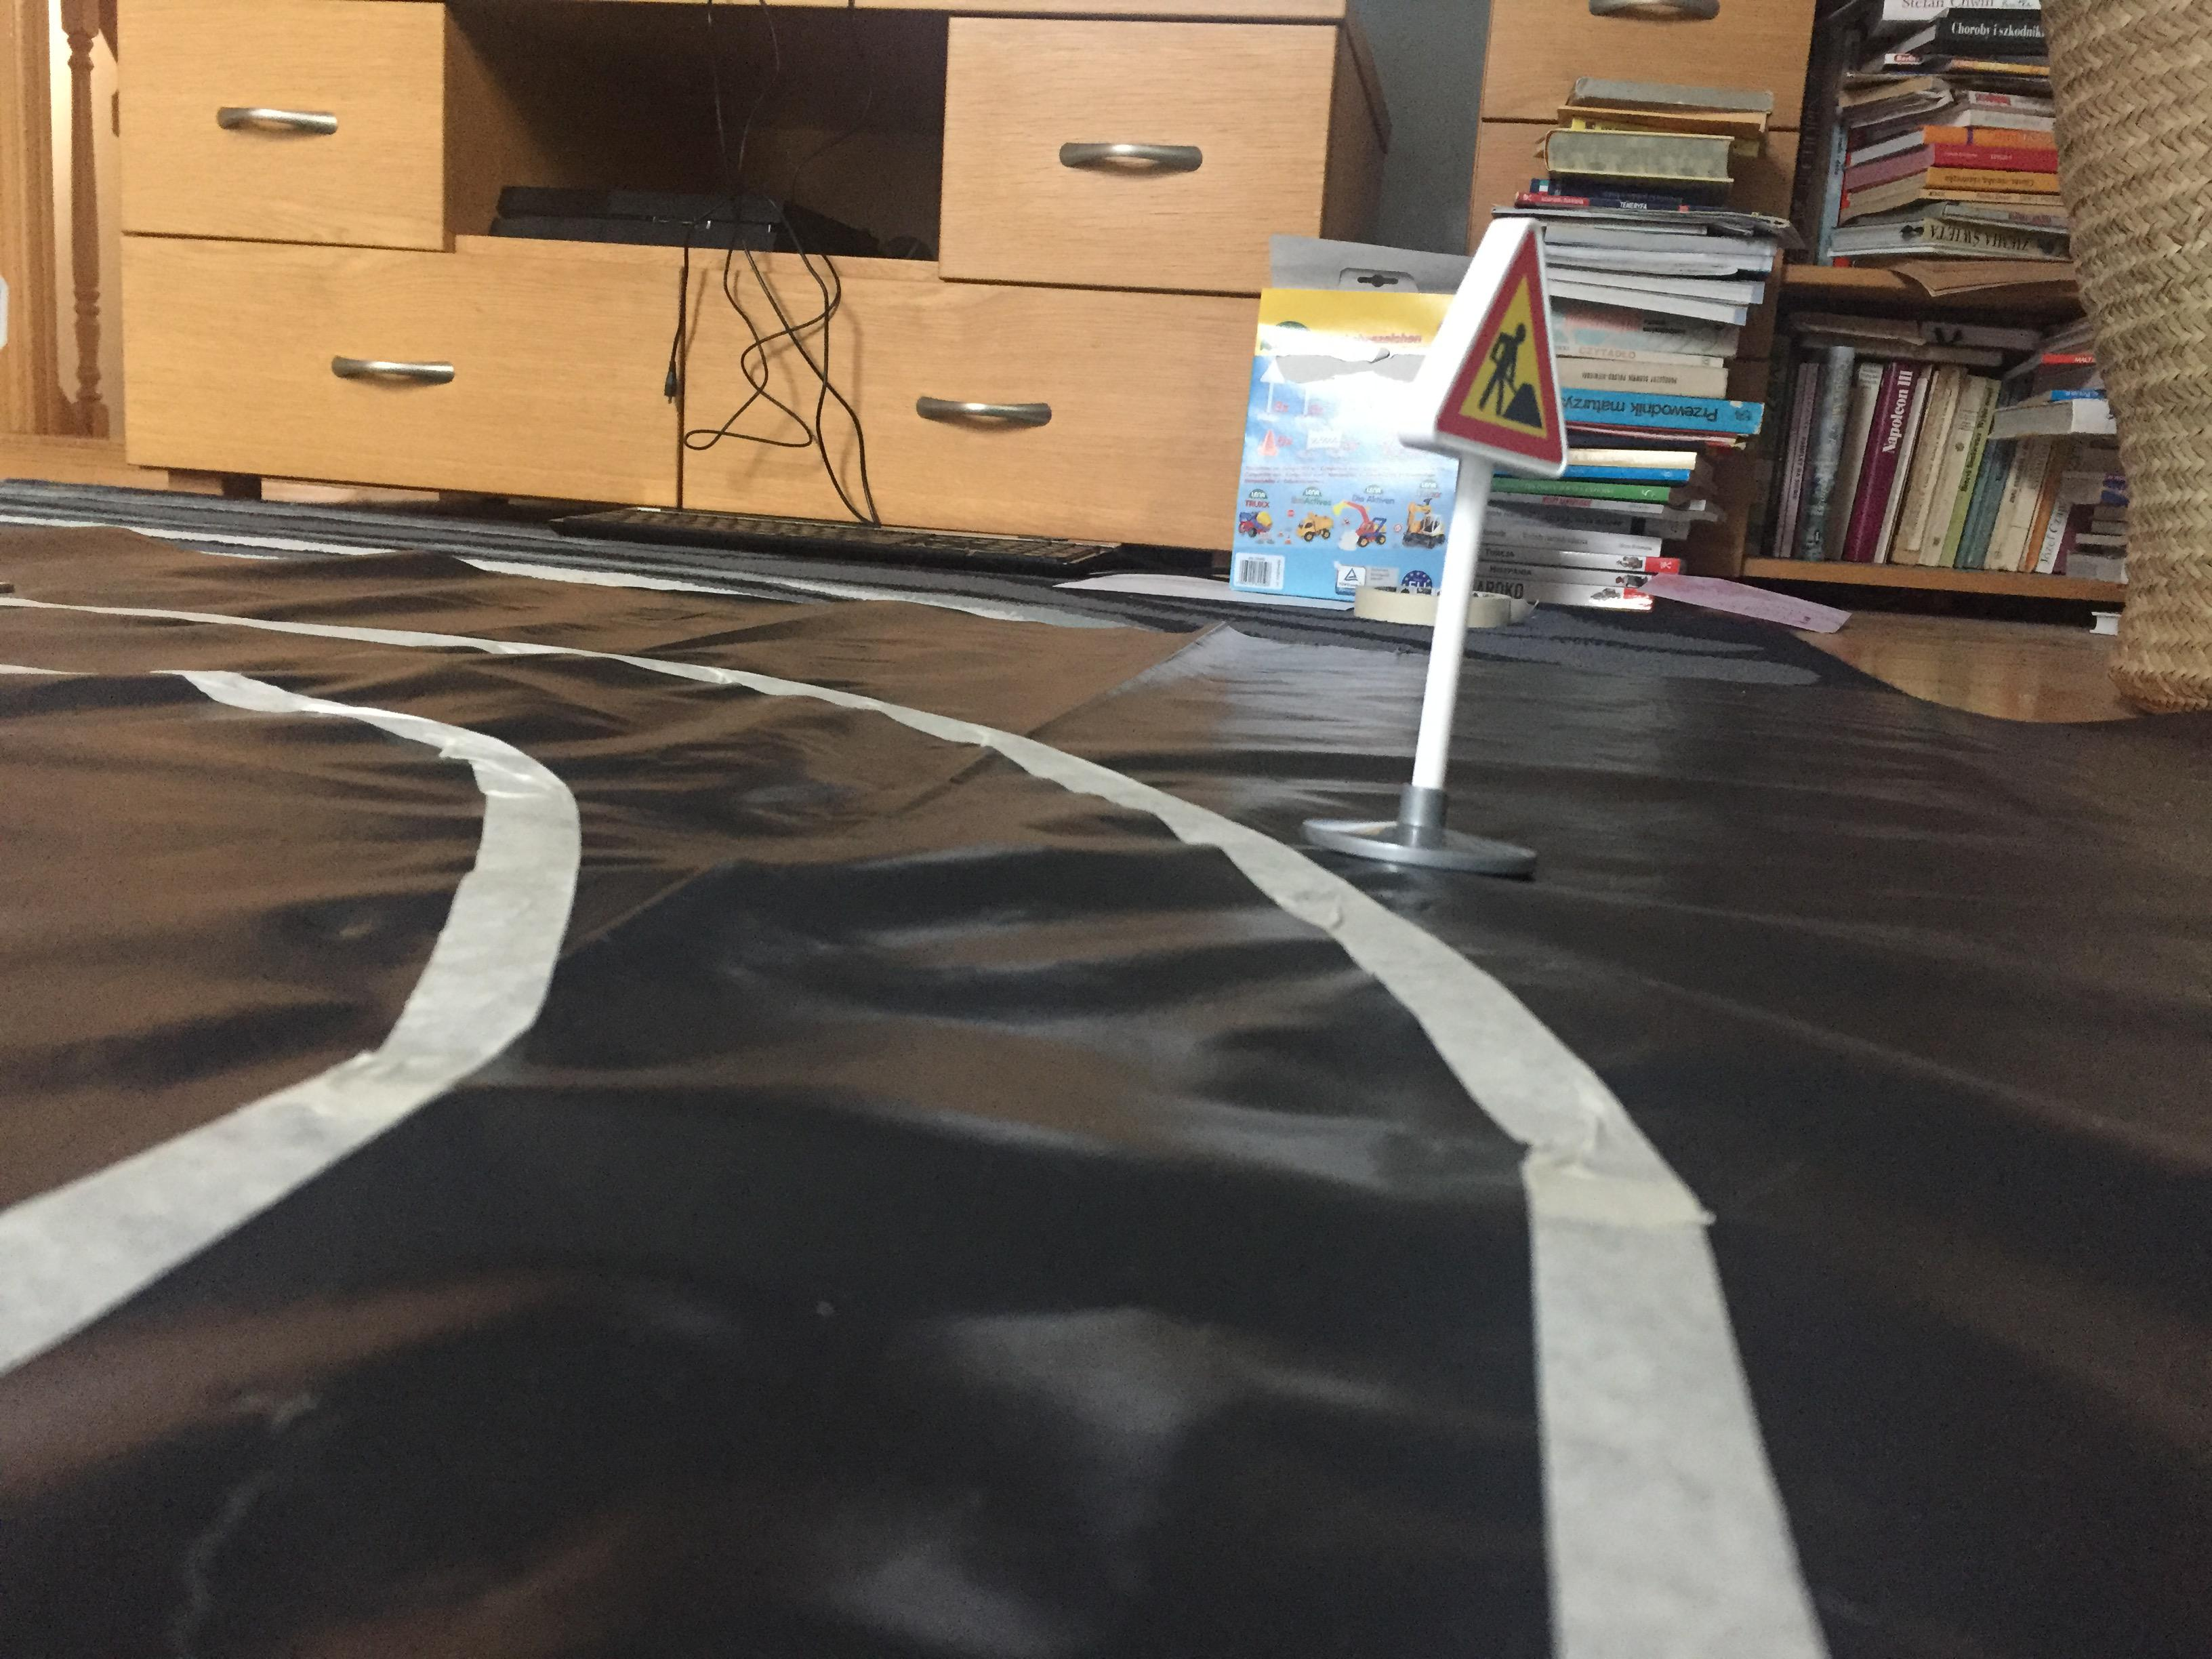work: (1386, 207, 1597, 483)
